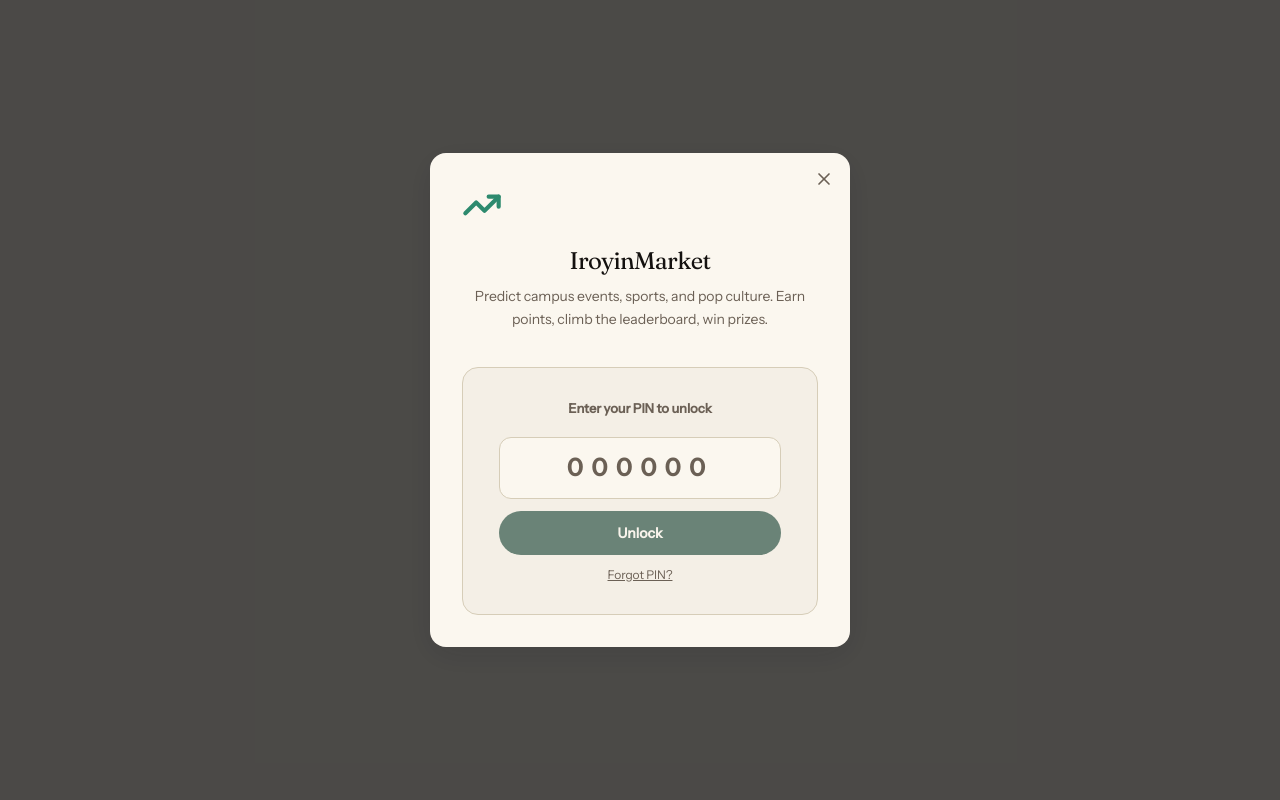
Test: Forgot PIN signs out, sets forgotPin flag, transitions to email step (no reload)
Click the button "Forgot PIN?". click: coordinates (640, 575)
box: [608,567,672,583]
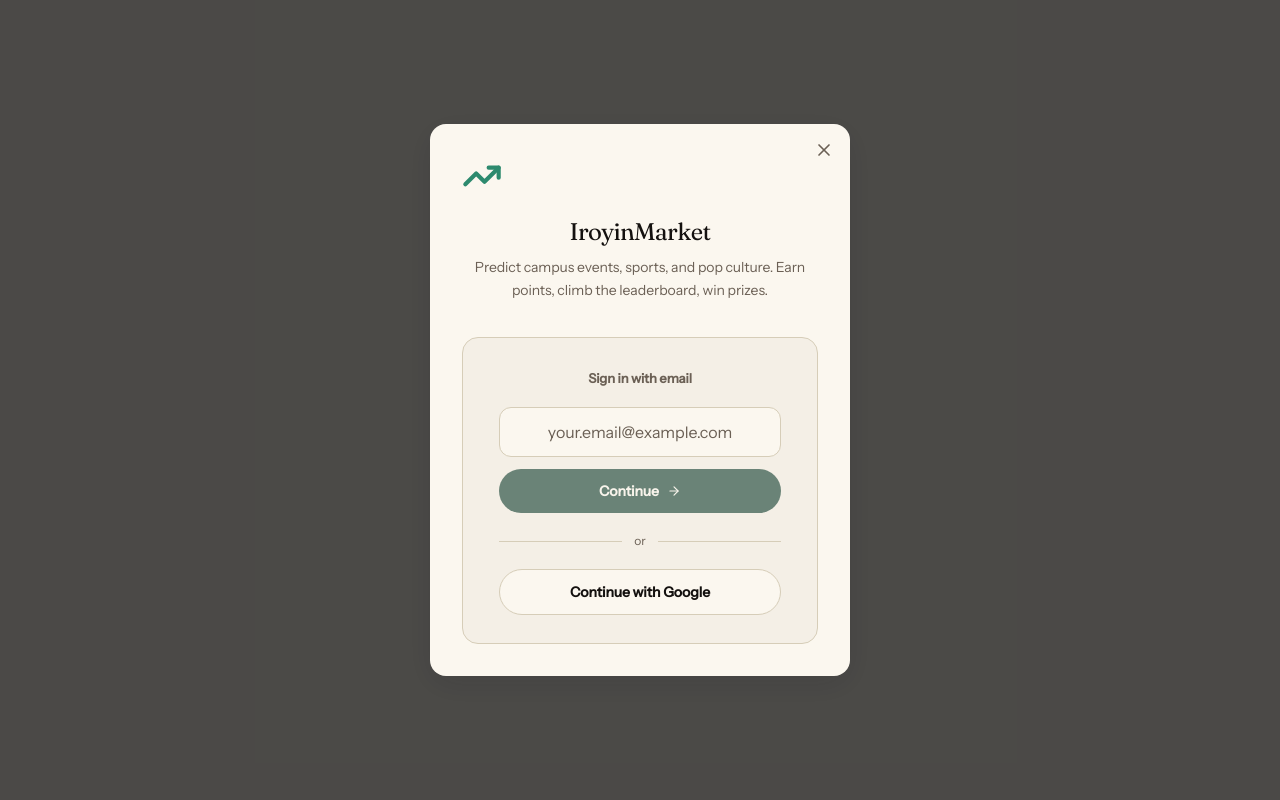
Expected: the field with placeholder "your.email@example.com" is shown, [499,407,781,457]
